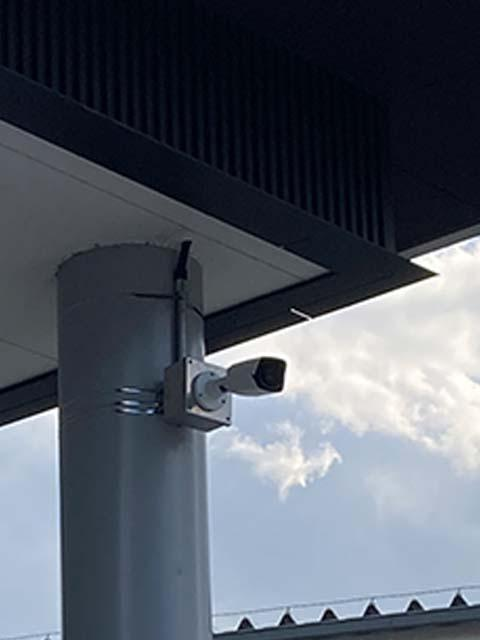tutu: (216, 348, 293, 402)
